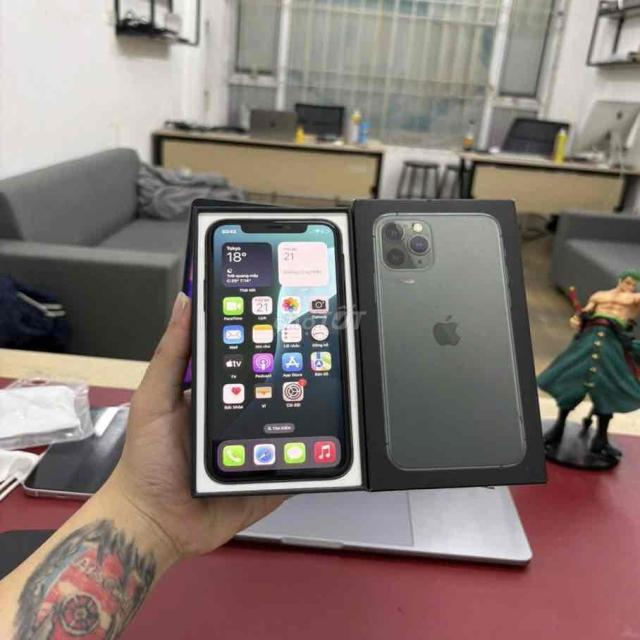gen_11: (200, 217, 355, 482)
